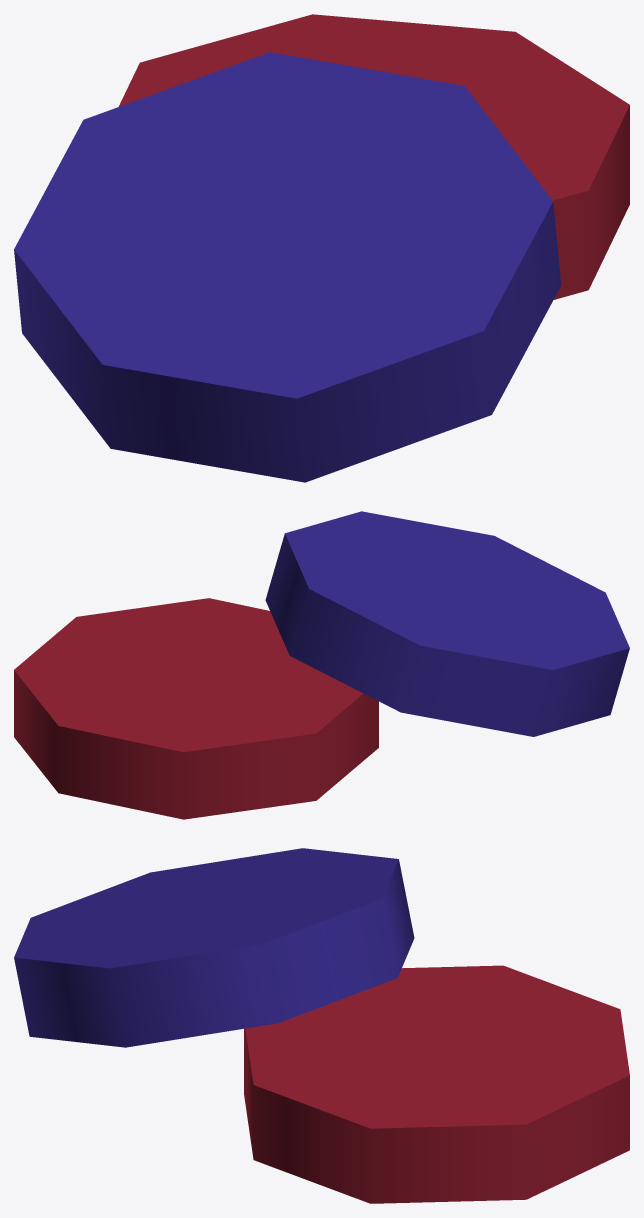
The model's file is moedas_poquer_um.fbx.
The picture shows the model from 3 angles, top to bottom: view 1: azimuth 30°, elevation 25°; view 2: azimuth 150°, elevation 25°; view 3: azimuth 270°, elevation 25°; orthographic projection. The views are drawn at different scales.
Visible parts, largest first — view 1: moedas_poquer_um; view 2: moedas_poquer_um; view 3: moedas_poquer_um.
Boxes of the visible parts, x1,y1,x2,y2 form: moedas_poquer_um: (14,14,629,482); moedas_poquer_um: (14,511,629,819); moedas_poquer_um: (14,848,629,1203).
Bounding box in the file's own units: 7.84 × 2.59 × 8.24.
